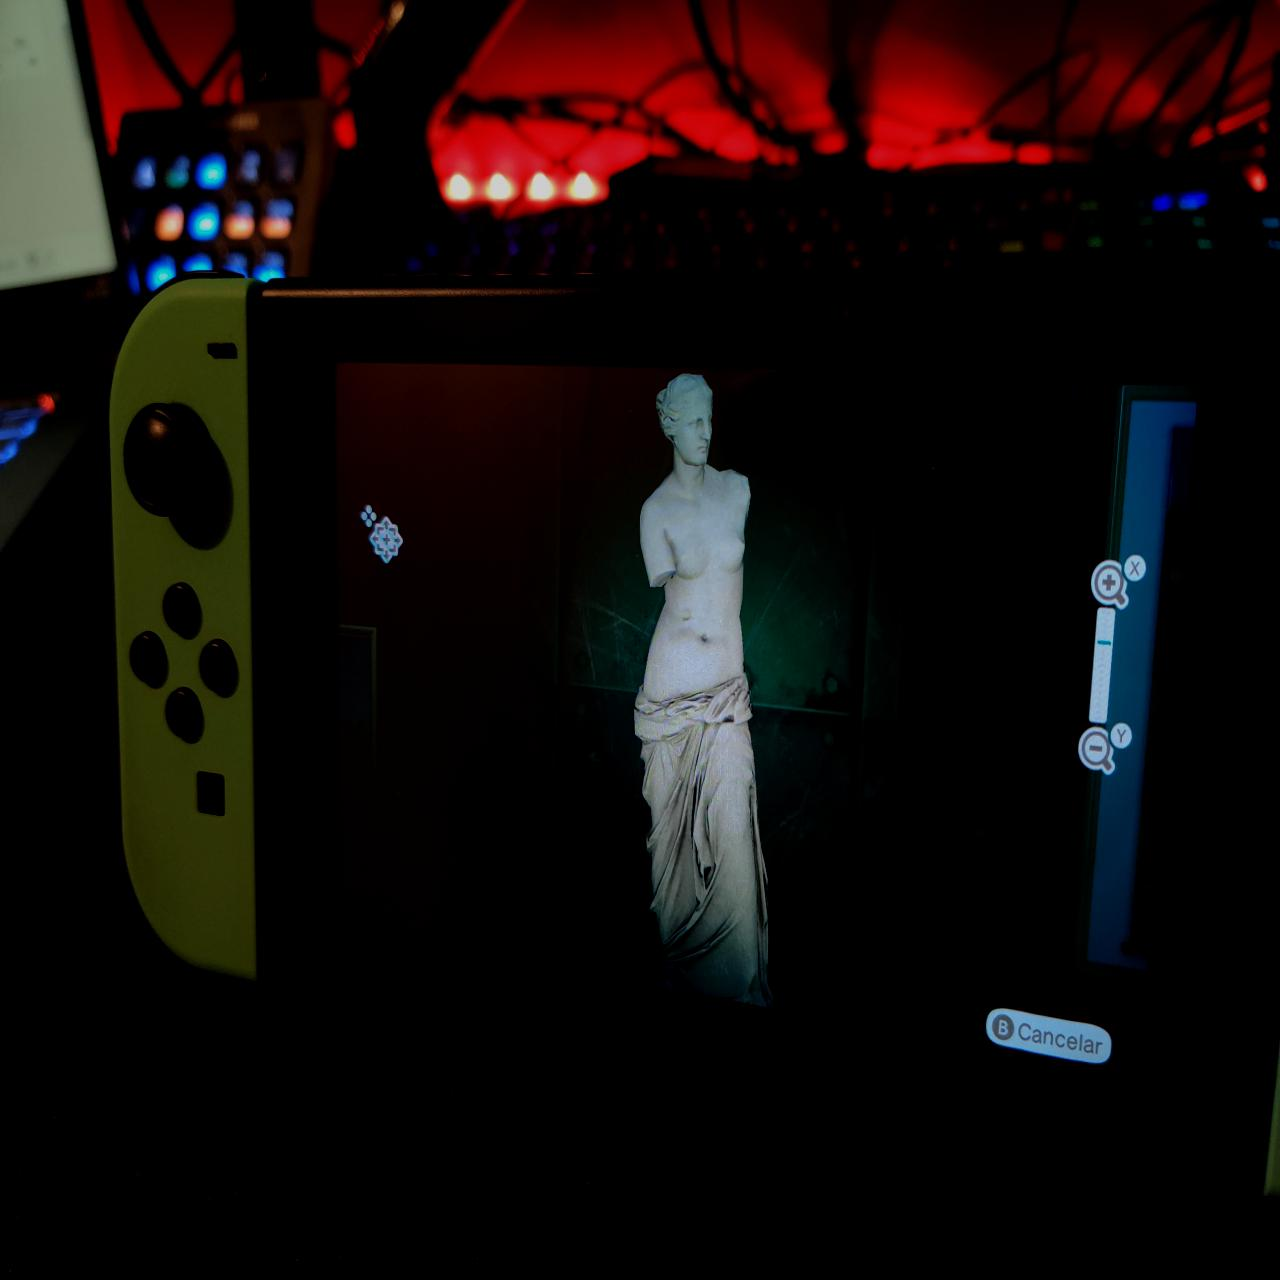Milo: (634, 372, 775, 1012)
